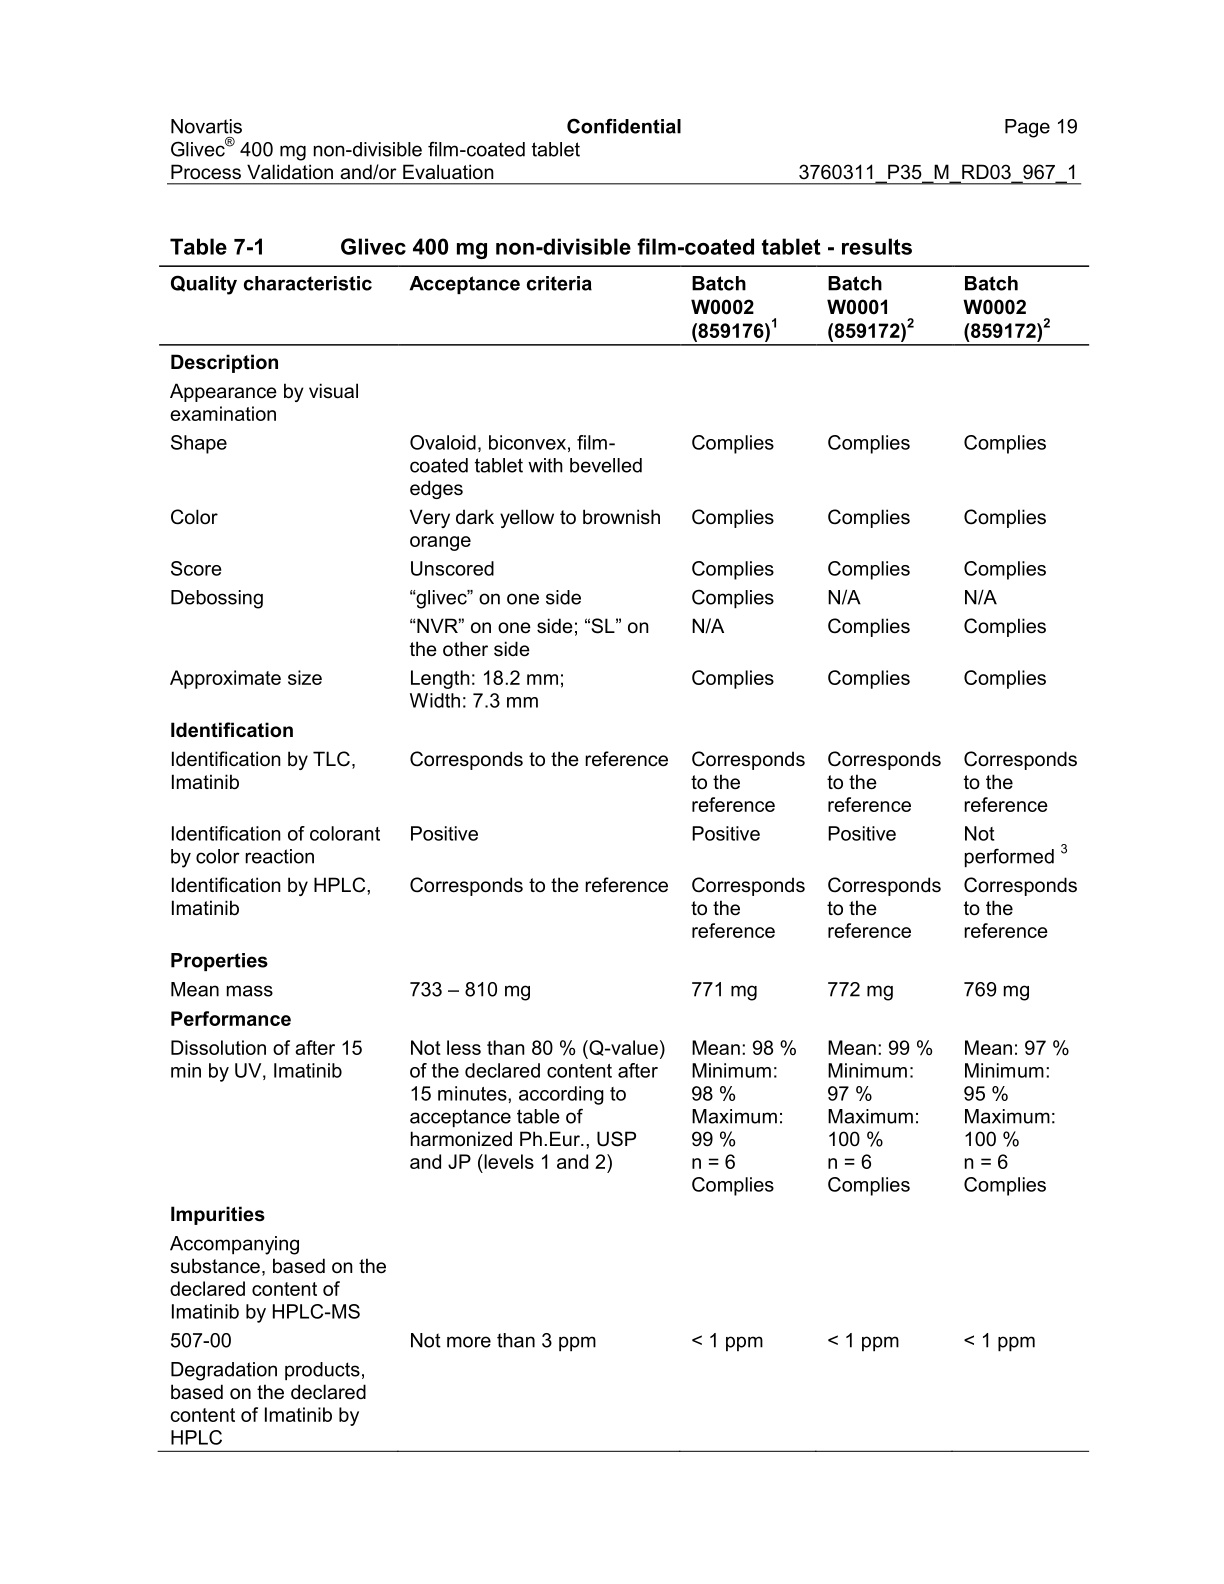partial_lined: (159, 261, 1092, 1455)
